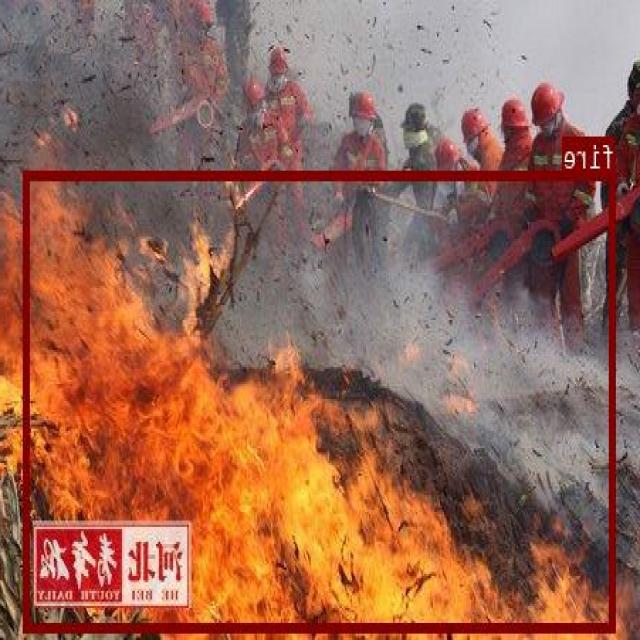fire: (25, 170, 618, 631)
